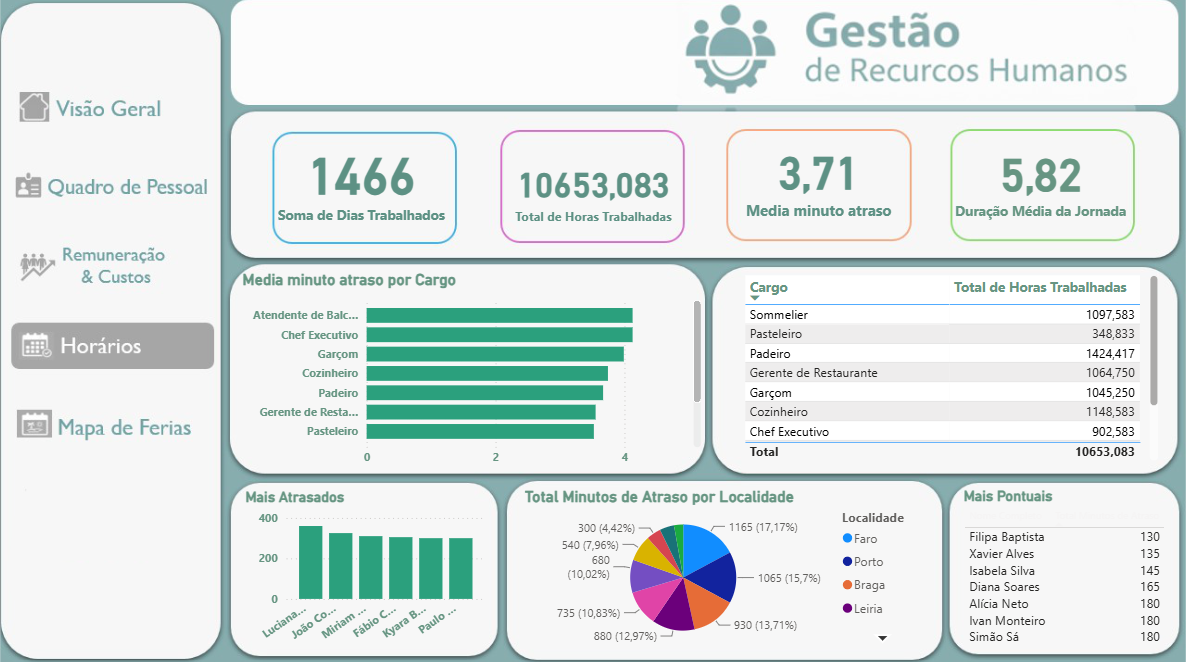

This screenshot's page, from the dashboard's own definition file:
{"tool":"powerbi","page":{"name":"Horários","canvas":[1280,720],"ordinal":3},"visuals":[{"type":"card","fields":{"Values":["Sum(Custos.Dias Trabalhados)"]},"box":[291.4,141.4,198.6,104.3],"z":0},{"type":"card","fields":{"Values":["Média de Antiguidade anos.Total de Horas Trabalhadas"]},"box":[490,130,300,150],"z":1000},{"type":"card","fields":{"Values":["Média de Antiguidade anos.Media minuto atraso"]},"box":[734.3,117.1,300,150],"z":2000},{"type":"barChart","fields":{"Y":["Média de Antiguidade anos.Media minuto atraso"],"Category":["Cargo.Cargo"]},"box":[257.2,292.4,505,219.6],"z":3000},{"type":"tableEx","fields":{"Values":["Cargo.Cargo","Média de Antiguidade anos.Total de Horas Trabalhadas"]},"box":[798.6,292.4,456.8,210.2],"z":4000},{"type":"clusteredColumnChart","title":"Mais Atrasados","fields":{"Category":["Base de funcionarios.Nome Completo"],"Y":["Média de Antiguidade anos.Total Minutos de Atraso"]},"box":[260.7,527.3,268.9,175],"z":5000},{"type":"tableEx","title":"Mais Pontuais","fields":{"Values":["Base de funcionarios.Nome Completo","Média de Antiguidade anos.Total Minutos de Atraso"]},"box":[1035.4,526.2,230.8,181.5],"z":6000},{"type":"card","fields":{"Values":["Média de Antiguidade anos.Duração Média da Jornada"]},"box":[1024.3,144.8,197.5,97.4],"z":7000},{"type":"pieChart","fields":{"Category":["Localidade.Localidade"],"Y":["Média de Antiguidade anos.Total Minutos de Atraso"]},"box":[561.5,526.4,438.4,175.9],"z":8000}]}

Visuals, with their boxes on the page's 1280x720 design canvas (x1, y1, x2, y2). These are canvas units, not pixel positions in the 1186x662 screenshot, which may show the page scaled, cropped or inside an application window:
card - Sum(Custos.Dias Trabalhados): box(291, 141, 490, 246)
card - Média de Antiguidade anos.Total de Horas Trabalhadas: box(490, 130, 790, 280)
card - Média de Antiguidade anos.Media minuto atraso: box(734, 117, 1034, 267)
barChart - Média de Antiguidade anos.Media minuto atraso x Cargo.Cargo: box(257, 292, 762, 512)
tableEx - Cargo.Cargo x Média de Antiguidade anos.Total de Horas Trabalhadas: box(799, 292, 1255, 503)
"Mais Atrasados" clusteredColumnChart: box(261, 527, 530, 702)
"Mais Pontuais" tableEx: box(1035, 526, 1266, 708)
card - Média de Antiguidade anos.Duração Média da Jornada: box(1024, 145, 1222, 242)
pieChart - Localidade.Localidade x Média de Antiguidade anos.Total Minutos de Atraso: box(562, 526, 1000, 702)
